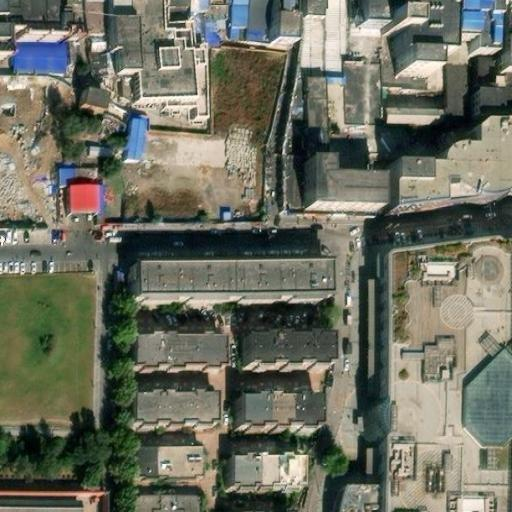building: (334, 256, 512, 512), (394, 134, 512, 225), (129, 276, 326, 314), (302, 163, 375, 214), (0, 23, 70, 75), (299, 0, 343, 80), (132, 394, 218, 433), (132, 345, 221, 377), (236, 407, 314, 443), (225, 463, 302, 499), (241, 351, 329, 382), (0, 485, 99, 512), (132, 452, 198, 486), (390, 40, 438, 74), (442, 56, 466, 117), (380, 101, 441, 123), (78, 96, 123, 125), (479, 89, 512, 127), (61, 189, 97, 223), (130, 494, 197, 512), (55, 162, 99, 185), (126, 121, 142, 168), (479, 64, 503, 89), (83, 141, 116, 159)
